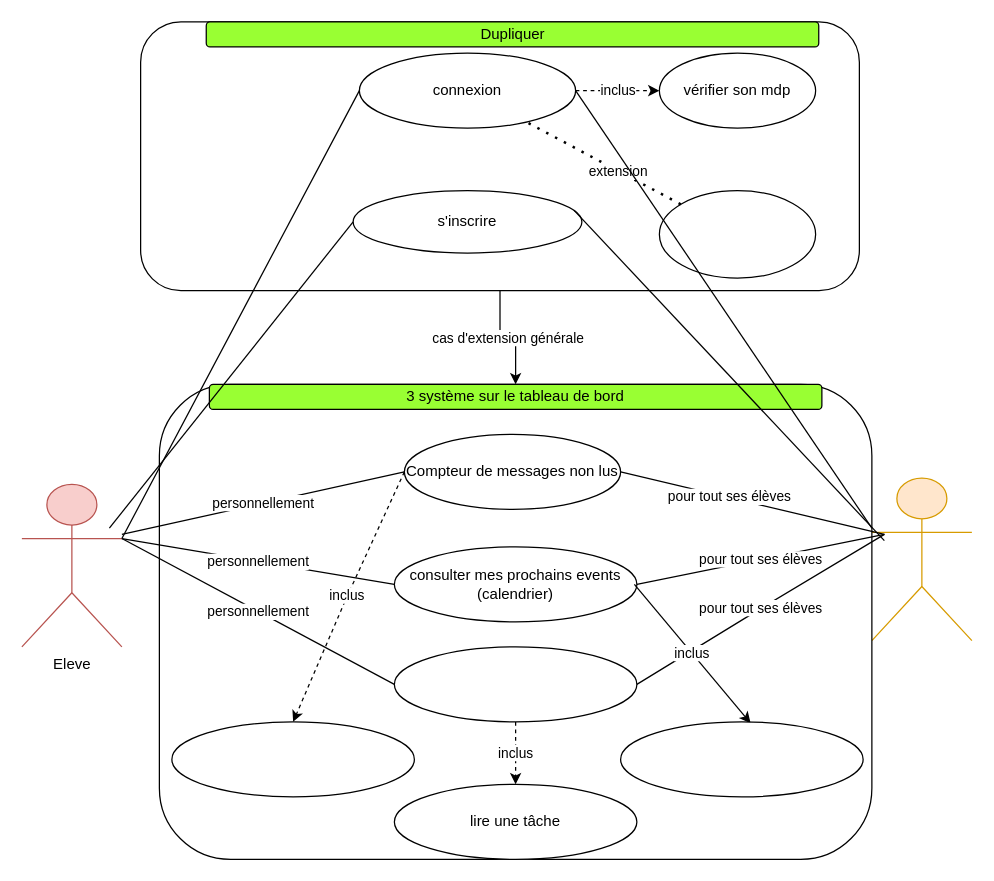
Some shapes in this 994 by 881 pixel diagram are drawn without their labels. Here are the shapes that lost their labels. From the top down, the box of each, then its label:
(658, 189, 816, 278): afficher erreur de connexion
(871, 477, 972, 641): Tuteur
(393, 646, 637, 722): consulter le recap de mes taches
(171, 721, 414, 797): lire l'historique des messages (non lus)
(619, 721, 863, 797): lire un event
